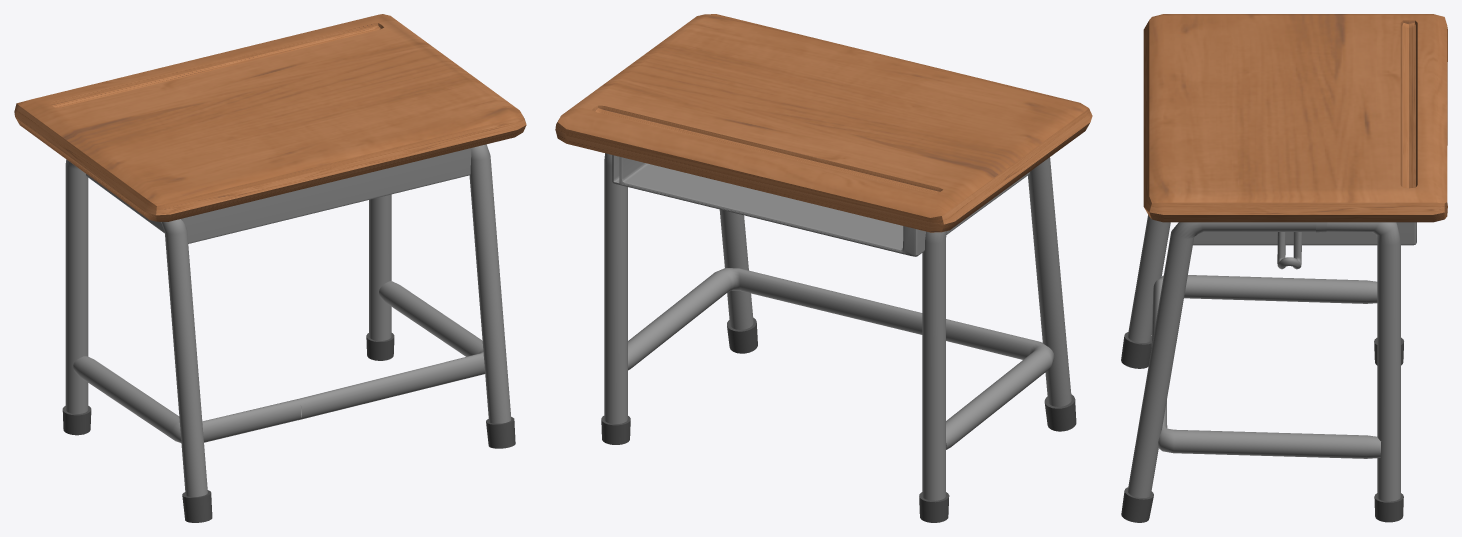
The model's file is schoolddesk.fbx.
3 renders of one model, left to right at view 1: azimuth 30°, elevation 25°; view 2: azimuth 150°, elevation 25°; view 3: azimuth 270°, elevation 25°, orthographic. The views are drawn at different scales.
Parts seen in each view (by area): view 1: polySurface3; view 2: polySurface3; view 3: polySurface3.
Part boxes in pixels (left/top/right/bottom): polySurface3: left=14, top=14, right=526, bottom=522; polySurface3: left=555, top=14, right=1092, bottom=522; polySurface3: left=1121, top=14, right=1447, bottom=522.
Size of the model in its own units: 4.65 by 3.77 by 3.32.
